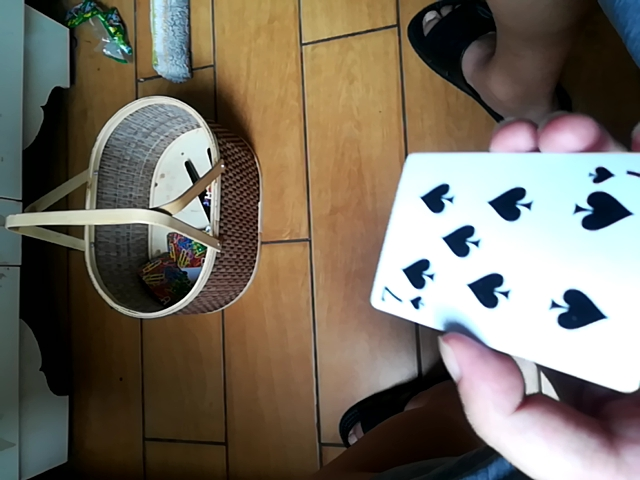ht 7: (369, 150, 640, 392)
